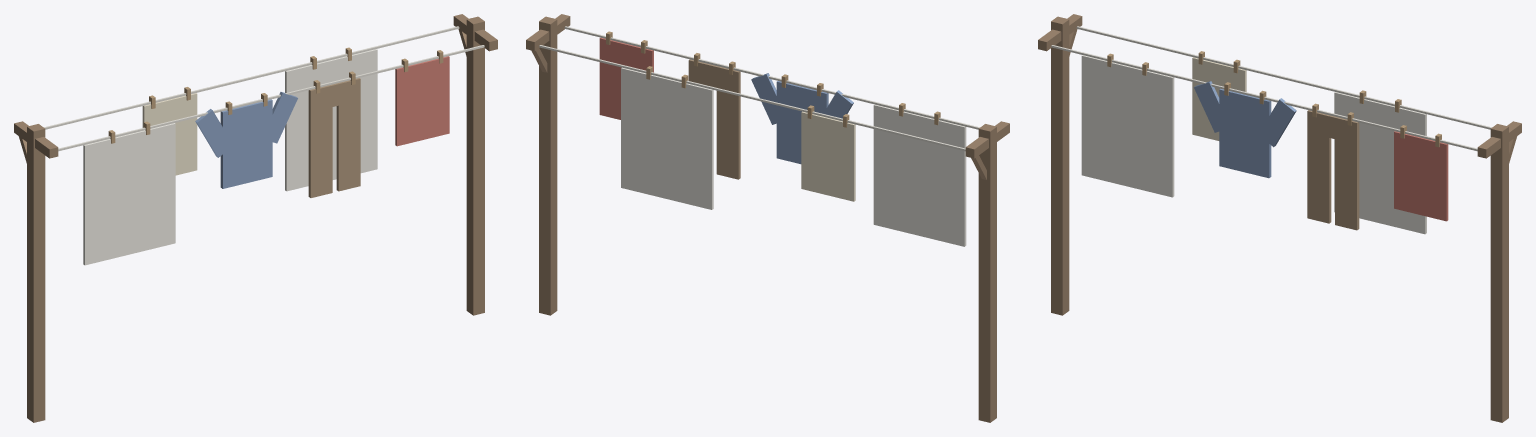
Rendered from washline.glb.
3 views of the same model, side by side, from view 1: azimuth 30°, elevation 25°; view 2: azimuth 150°, elevation 25°; view 3: azimuth 330°, elevation 25° (orthographic).
Parts seen in each view (by area): view 1: washline; view 2: washline; view 3: washline.
Boxes of the visible parts, bbox=[...] form: washline: bbox=[14, 14, 497, 422]; washline: bbox=[526, 14, 1009, 422]; washline: bbox=[1038, 14, 1521, 422].
Size of the model in its own units: 3.08 by 1.9 by 0.42.
